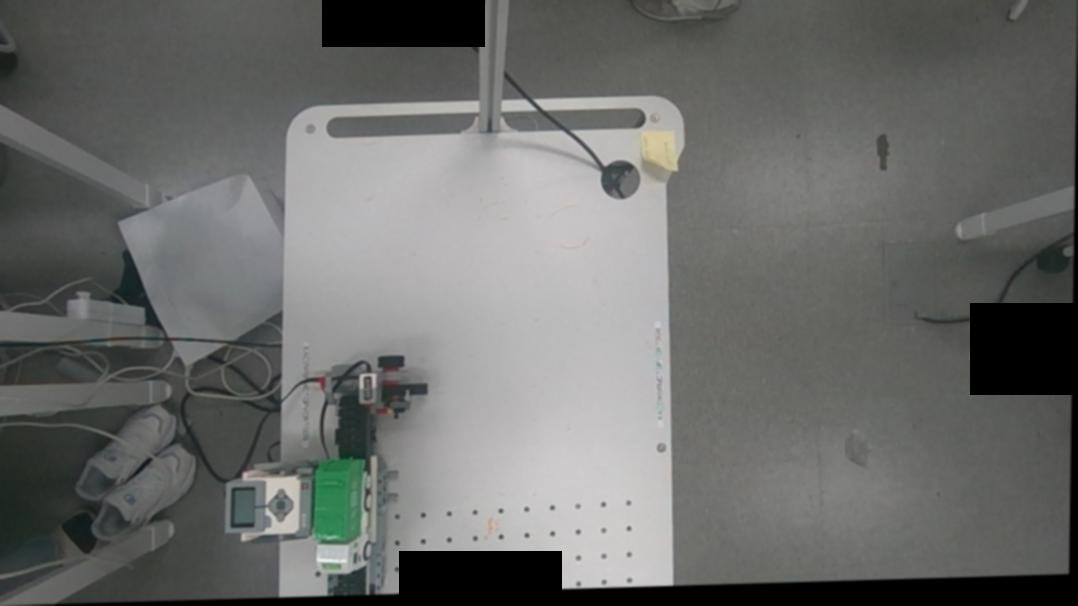truck: (306, 449, 387, 582)
